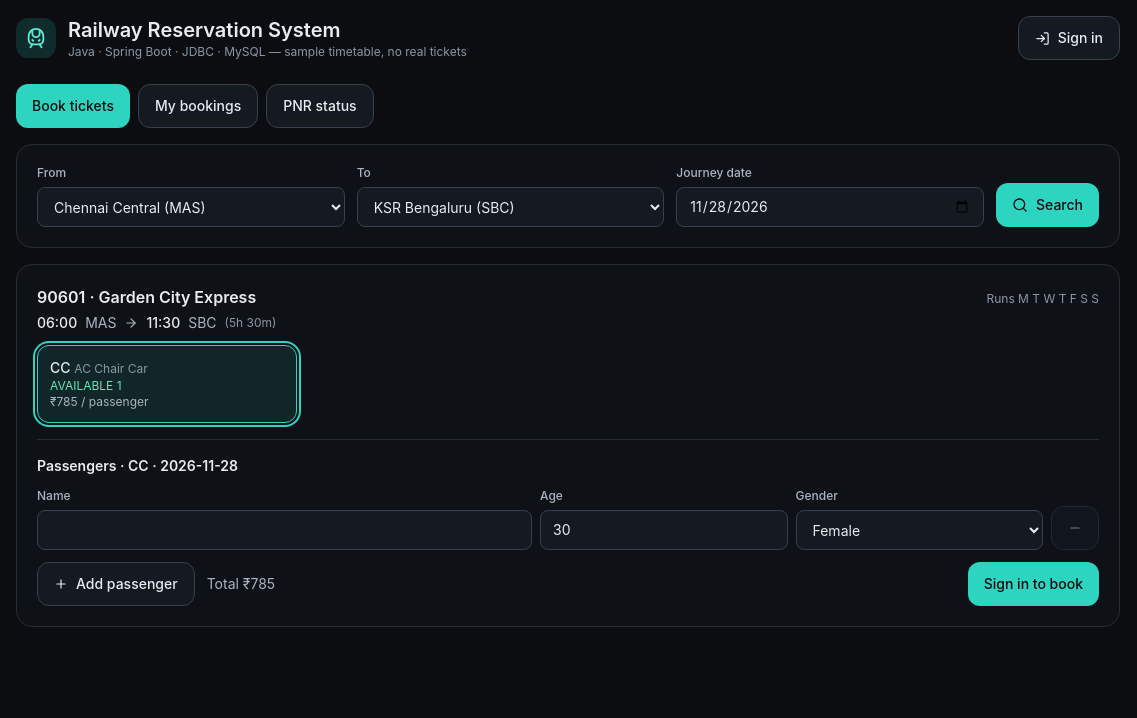
Test: searches, requires sign-in, then books two passengers and shows the waitlist number
Earlier steps of the test are not shown.
Later steps or results of the test are not shown.
Type "Asha" into the field labelled "Name".
click(284, 530); type("Asha")  # box [37,510,532,550]
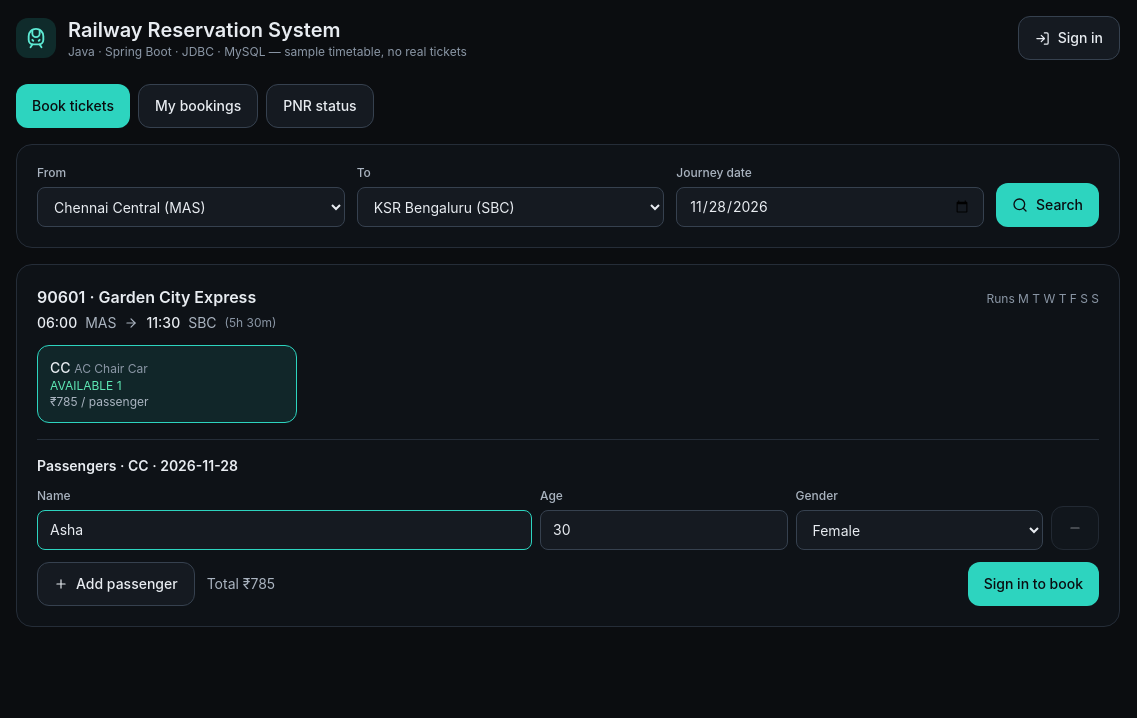
Click the button "Add passenger".
click(116, 584)  # box [37,562,195,606]
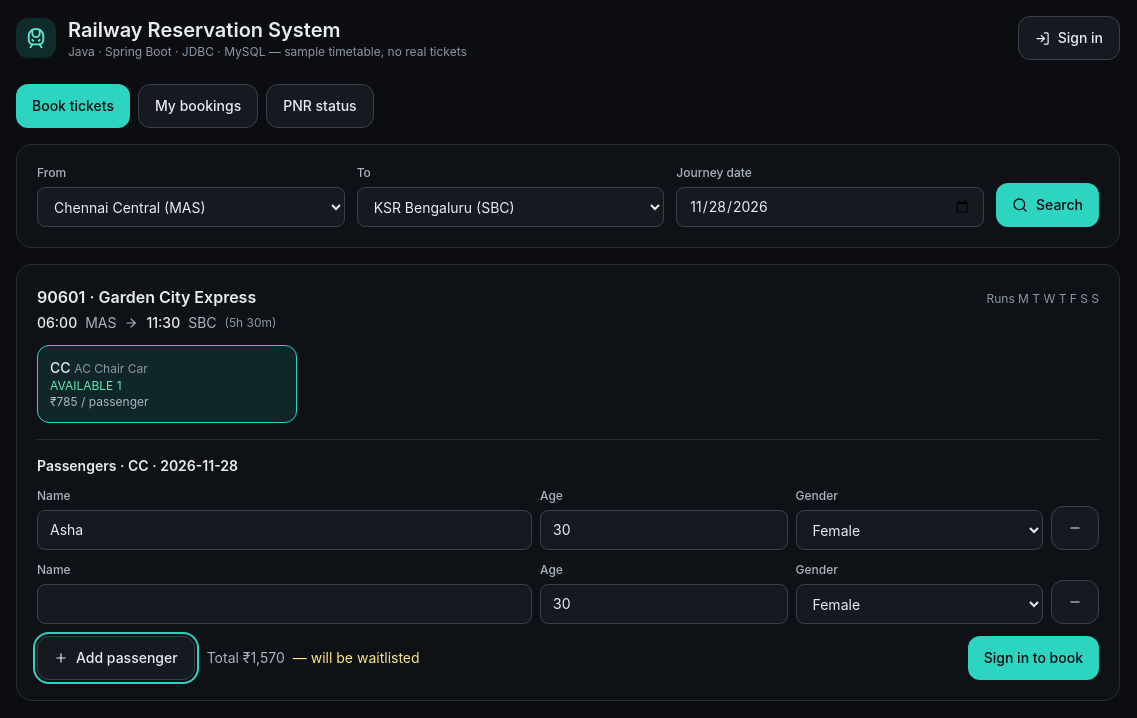
Type "Ravi" into the 2nd field labelled "Name".
click(284, 604); type("Ravi")  # box [37,584,532,624]
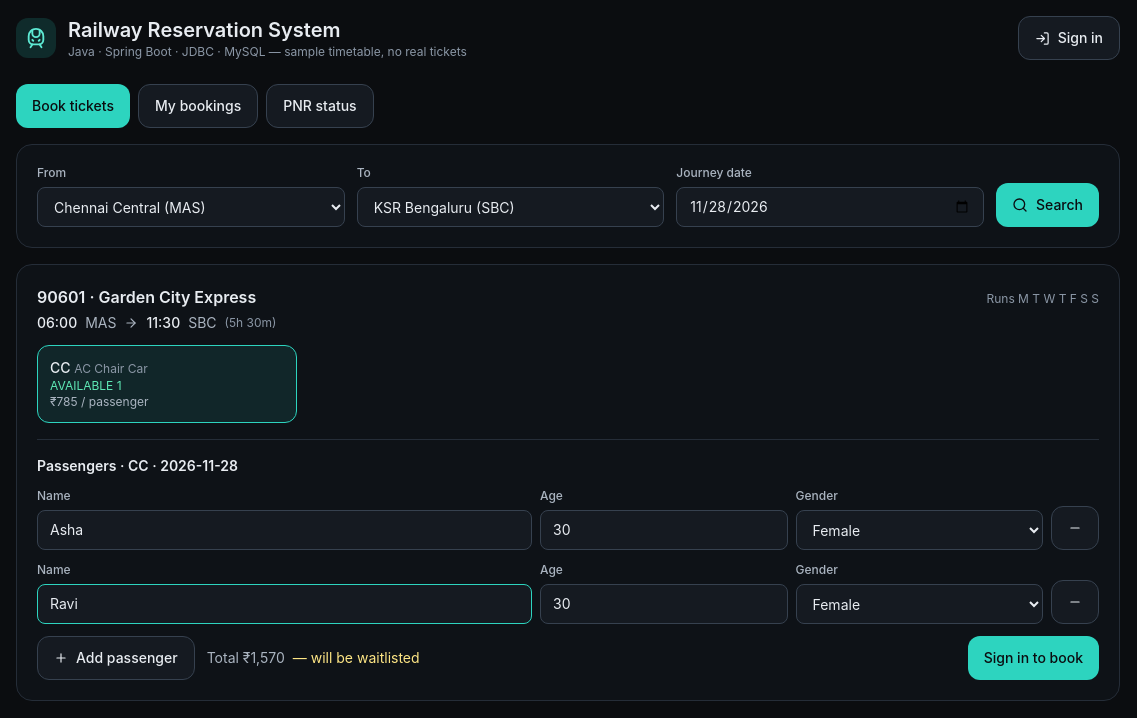
Expected: the text "— will be waitlisted" is shown, [293,649,420,666]
Click the button "Sign in to book".
click(1033, 658)  # box [968,636,1099,680]
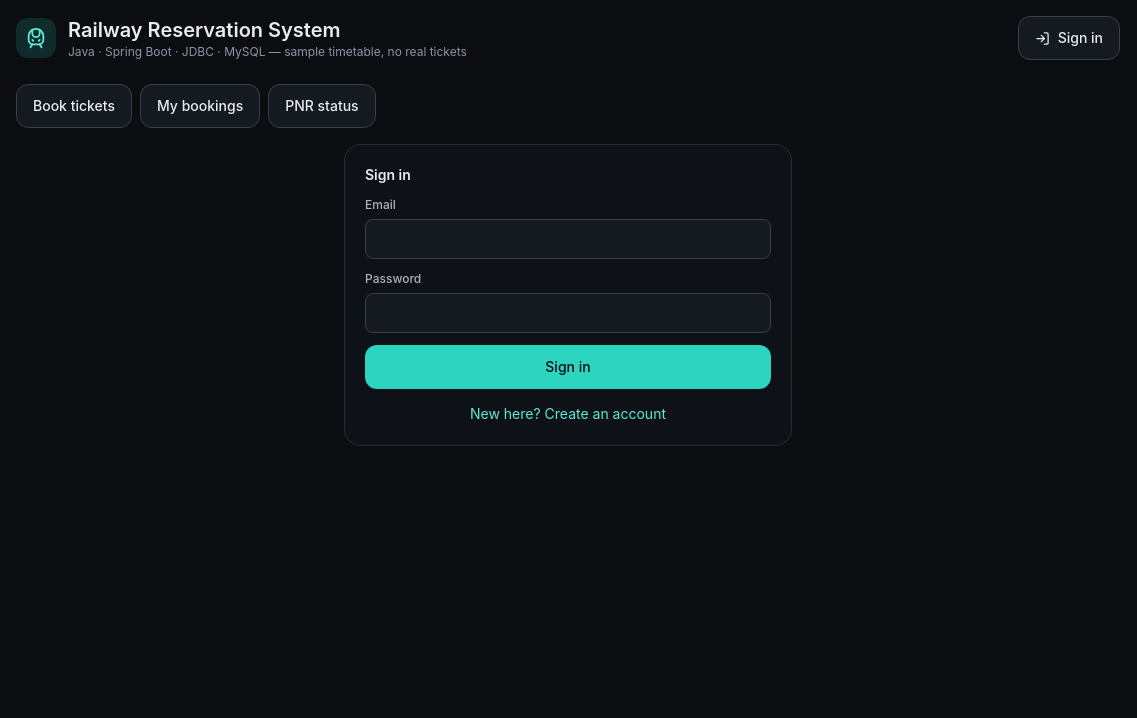
Type "a@x.in" into the field labelled "Email".
click(568, 239); type("a@x.in")  # box [365,219,771,259]
Type "wrong" into the password field labelled "Password".
click(568, 313); type("wrong")  # box [365,293,771,333]
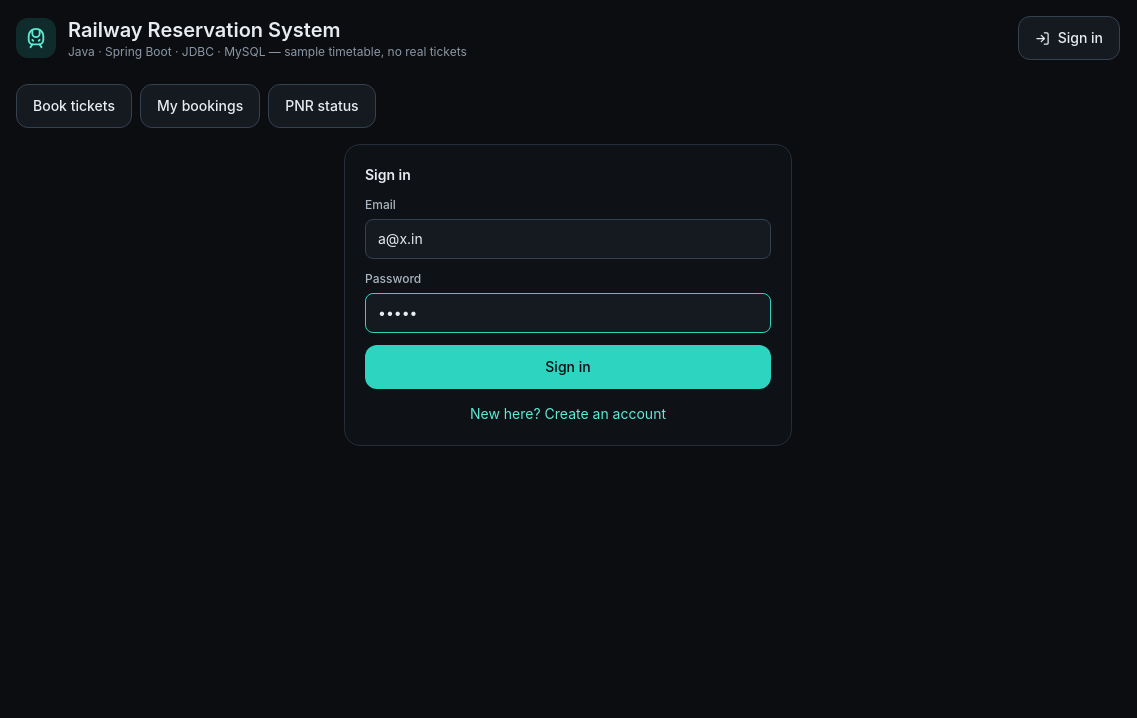
Click the button "Sign in" below "Password".
click(568, 367)  # box [365,345,771,389]
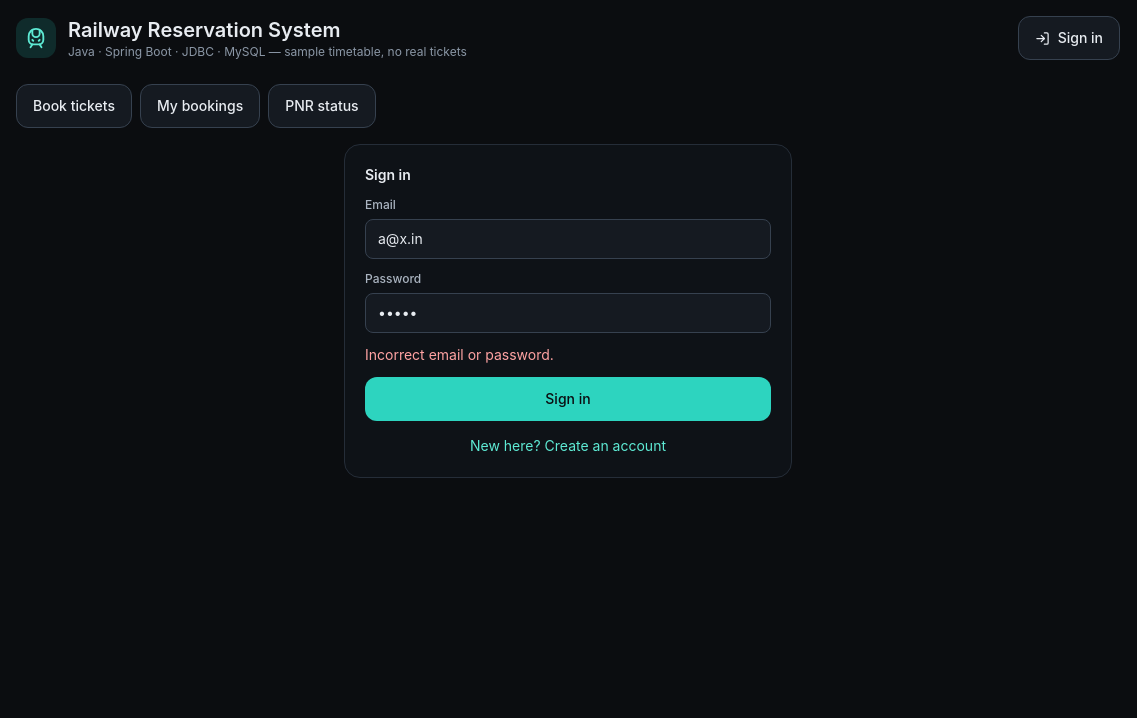
Expected: the message reads "Incorrect email or password.", [365,346,554,363]
